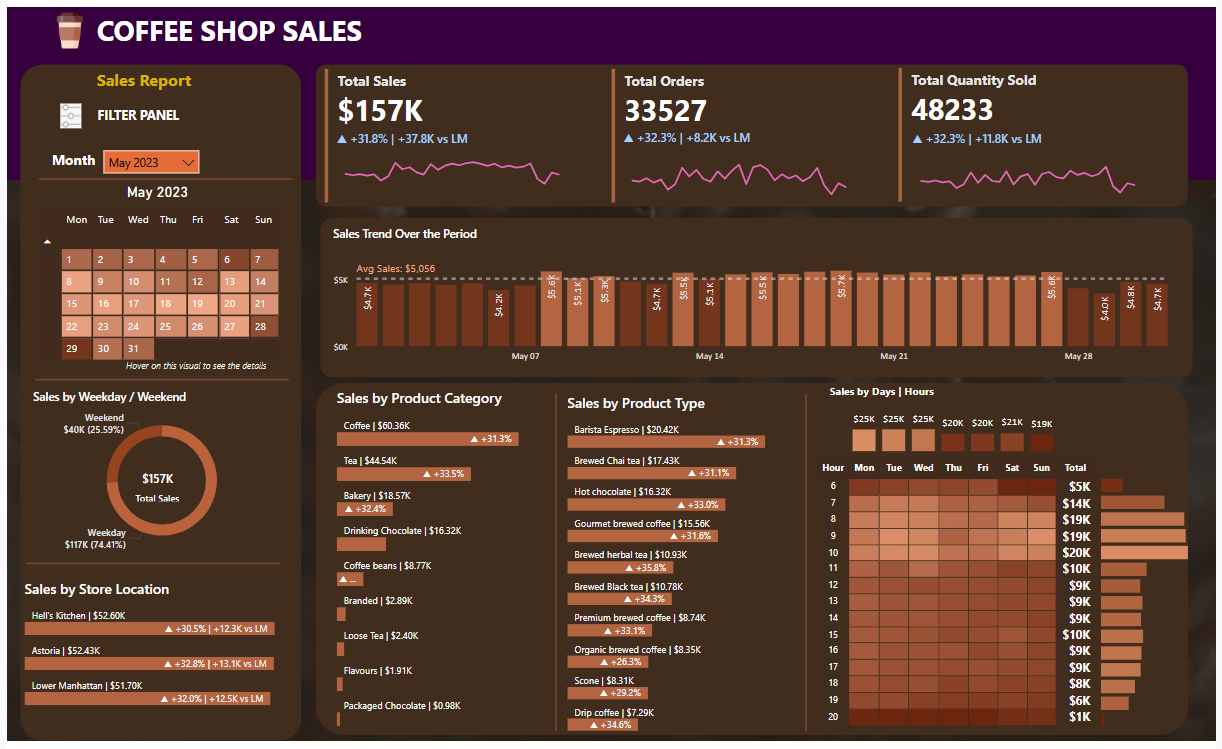

The page's visual inventory and layout, read from the dashboard file:
{"tool":"powerbi","page":{"name":"Coffee sales data","canvas":[1400,850],"ordinal":0},"visuals":[{"type":"shape","box":[0,0,1400.3,200],"z":0},{"type":"shape","box":[15,66,325.7,783.5],"z":1000},{"type":"shape","box":[357.2,66,1010.1,165.1],"z":2000},{"type":"textbox","box":[99.1,0,334.7,54],"z":3000},{"type":"cardVisual","fields":{"Data":["Transactions.Total Quantity Sold"]},"box":[1026.4,64.6,300.8,165.8],"z":4000,"group":"g3"},{"type":"cardVisual","fields":{"Data":["Transactions.Total Sales"]},"box":[362.6,66.1,300.8,165.8],"z":4000,"group":"g1"},{"type":"cardVisual","fields":{"Data":["Transactions.Total Orders"]},"box":[694.5,66.1,300.8,165.8],"z":4000,"group":"g2"},{"type":"slicer","fields":{"Values":["Date Table.Month Year"]},"box":[106.8,160.2,120.9,32.3],"z":4000},{"type":"group","id":"g1","title":"Group 1","box":[362.6,66.1,300.8,165.8],"z":5000},{"type":"lineChart","fields":{"Category":["Date Table.Date.Variation.Date Hierarchy.Year","Date Table.Date.Variation.Date Hierarchy.Quarter","Date Table.Date.Variation.Date Hierarchy.Month","Date Table.Date.Variation.Date Hierarchy.Day"],"Y":["Transactions.Total Orders"]},"box":[709.1,141.9,276.9,81.5],"z":5001,"group":"g2"},{"type":"lineChart","fields":{"Category":["Date Table.Date.Variation.Date Hierarchy.Year","Date Table.Date.Variation.Date Hierarchy.Quarter","Date Table.Date.Variation.Date Hierarchy.Month","Date Table.Date.Variation.Date Hierarchy.Day"],"Y":["Transactions.Total Quantity Sold"]},"box":[1042.4,142.4,276.9,81.5],"z":5001,"group":"g3"},{"type":"lineChart","fields":{"Y":["Transactions.Total Sales"],"Category":["Date Table.Date.Variation.Date Hierarchy.Year","Date Table.Date.Variation.Date Hierarchy.Quarter","Date Table.Date.Variation.Date Hierarchy.Month","Date Table.Date.Variation.Date Hierarchy.Day"]},"box":[376.7,143.4,276.9,81.5],"z":5001,"group":"g1"},{"type":"group","id":"g2","title":"Group 1","box":[694.5,66.1,300.8,165.8],"z":6000},{"type":"group","id":"g3","title":"Group 1","box":[1026.4,64.6,300.8,165.8],"z":7000},{"type":"pivotTable","fields":{"Rows":["Date Table.Week Number"],"Columns":["Date Table.Day Name"],"Values":["Min(Date Table.Day Number)"]},"box":[32.3,229.1,293.7,195.4],"z":8000},{"type":"card","fields":{"Values":["Min(Date Table.Month Year)"]},"box":[127.9,199.6,91.4,29.5],"z":9000},{"type":"card","fields":{"Values":["Transactions.Foot Note"]},"box":[127.9,402,181.3,22.5],"z":10000},{"type":"shape","box":[32.3,424.4,293.7,14.1],"z":11000},{"type":"shape","box":[36.5,192.5,293.7,14.1],"z":12000},{"type":"donutChart","title":"Sales by Weekday / Weekend","fields":{"Category":["Date Table.Weekday / Weekend"],"Y":["Transactions.Total Sales"]},"box":[25.3,441.3,307.8,195.4],"z":13000},{"type":"card","fields":{"Values":["Transactions.Total Sales"]},"box":[127.9,532.7,91.4,45],"z":14000},{"type":"shape","box":[22.5,636.7,293.7,14.1],"z":15000},{"type":"clusteredBarChart","title":"Sales by Store Location","fields":{"Category":["Transactions.store_location"],"Y":["Transactions.Placeholder","Transactions.Total Sales"]},"box":[15.5,662,326.1,153.2],"z":16000},{"type":"shape","box":[362.6,244.5,1010.5,185],"z":17000},{"type":"columnChart","title":"Sales Trend Over the Period","fields":{"Category":["Transactions.transaction_date"],"Y":["Transactions.Total Sales"]},"box":[372.4,254.4,981,165.8],"z":18000},{"type":"shape","box":[357,435.7,1010.5,407.6],"z":19000},{"type":"clusteredBarChart","title":"Sales by Product Category","fields":{"Y":["Transactions.Placeholder","Transactions.Total Sales"],"Category":["Transactions.product_category"]},"box":[376.7,441.3,250.2,396.3],"z":20000},{"type":"shape","box":[626.8,446.9,16.9,390.7],"z":21000},{"type":"clusteredBarChart","title":"Sales by Product Type","fields":{"Y":["Transactions.Placeholder","Transactions.Total Sales"],"Category":["Transactions.product_type"]},"box":[643.9,447.3,271.7,396.2],"z":22000},{"type":"shape","box":[915.5,448.8,18,391.7],"z":23000},{"type":"pivotTable","fields":{"Rows":["Transactions.Hour"],"Columns":["Date Table.Day Name"],"Values":["Transactions.Total Sales"]},"box":[933.2,520,335.9,317.6],"z":24000},{"type":"barChart","fields":{"Category":["Transactions.Hour"],"Y":["Transactions.Total Sales"]},"box":[1260.7,532.7,112.4,305],"z":25000},{"type":"columnChart","fields":{"Y":["Transactions.Total Sales"],"Category":["Date Table.Day Name"]},"box":[974,458.2,243.1,61.8],"z":26000},{"type":"textbox","box":[947.3,430.1,154.6,28.1],"z":27000},{"type":"textbox","box":[46.4,160.2,68.9,39.4],"z":28000},{"type":"textbox","box":[98.4,66.1,137.7,43.6],"z":29000},{"type":"textbox","box":[99.8,109.6,127.9,33.7],"z":30000},{"type":"image","box":[49.2,106.8,50.6,39.4],"z":31000},{"type":"image","box":[46.4,1.4,52,52],"z":32000}]}

Visuals, with their boxes in screenshot pixels (x1, y1, x2, y2), scaled from the page's 1400x850 canvas onto the 1222x749 screenshot:
shape: bbox=[0, 0, 1221, 176]
shape: bbox=[13, 58, 297, 748]
shape: bbox=[312, 58, 1193, 204]
textbox: bbox=[87, 0, 379, 48]
cardVisual - Transactions.Total Quantity Sold: bbox=[896, 57, 1158, 203]
cardVisual - Transactions.Total Sales: bbox=[316, 58, 579, 204]
cardVisual - Transactions.Total Orders: bbox=[606, 58, 869, 204]
slicer - Date Table.Month Year: bbox=[93, 141, 199, 170]
"Group 1" group: bbox=[316, 58, 579, 204]
lineChart - Date Table.Date.Variation.Date Hierarchy.Year x Date Table.Date.Variation.Date Hierarchy.Quarter: bbox=[619, 125, 861, 197]
lineChart - Date Table.Date.Variation.Date Hierarchy.Year x Date Table.Date.Variation.Date Hierarchy.Quarter: bbox=[910, 125, 1152, 197]
lineChart - Transactions.Total Sales x Date Table.Date.Variation.Date Hierarchy.Year: bbox=[329, 126, 570, 198]
"Group 1" group: bbox=[606, 58, 869, 204]
"Group 1" group: bbox=[896, 57, 1158, 203]
pivotTable - Date Table.Week Number x Date Table.Day Name: bbox=[28, 202, 285, 374]
card - Min(Date Table.Month Year): bbox=[112, 176, 191, 202]
card - Transactions.Foot Note: bbox=[112, 354, 270, 374]
shape: bbox=[28, 374, 285, 386]
shape: bbox=[32, 170, 288, 182]
"Sales by Weekday / Weekend" donutChart: bbox=[22, 389, 291, 561]
card - Transactions.Total Sales: bbox=[112, 469, 191, 509]
shape: bbox=[20, 561, 276, 573]
"Sales by Store Location" clusteredBarChart: bbox=[14, 583, 298, 718]
shape: bbox=[316, 215, 1199, 378]
"Sales Trend Over the Period" columnChart: bbox=[325, 224, 1181, 370]
shape: bbox=[312, 384, 1194, 743]
"Sales by Product Category" clusteredBarChart: bbox=[329, 389, 547, 738]
shape: bbox=[547, 394, 562, 738]
"Sales by Product Type" clusteredBarChart: bbox=[562, 394, 799, 743]
shape: bbox=[799, 395, 815, 741]
pivotTable - Transactions.Hour x Date Table.Day Name: bbox=[815, 458, 1108, 738]
barChart - Transactions.Hour x Transactions.Total Sales: bbox=[1100, 469, 1199, 738]
columnChart - Transactions.Total Sales x Date Table.Day Name: bbox=[850, 404, 1062, 458]
textbox: bbox=[827, 379, 962, 404]
textbox: bbox=[41, 141, 101, 176]
textbox: bbox=[86, 58, 206, 97]
textbox: bbox=[87, 97, 199, 126]
image: bbox=[43, 94, 87, 129]
image: bbox=[41, 1, 86, 47]
